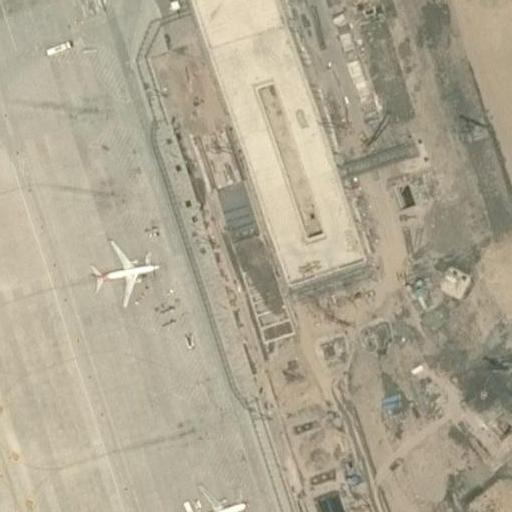Aircraft: (86, 242, 161, 309), (164, 483, 259, 512)
